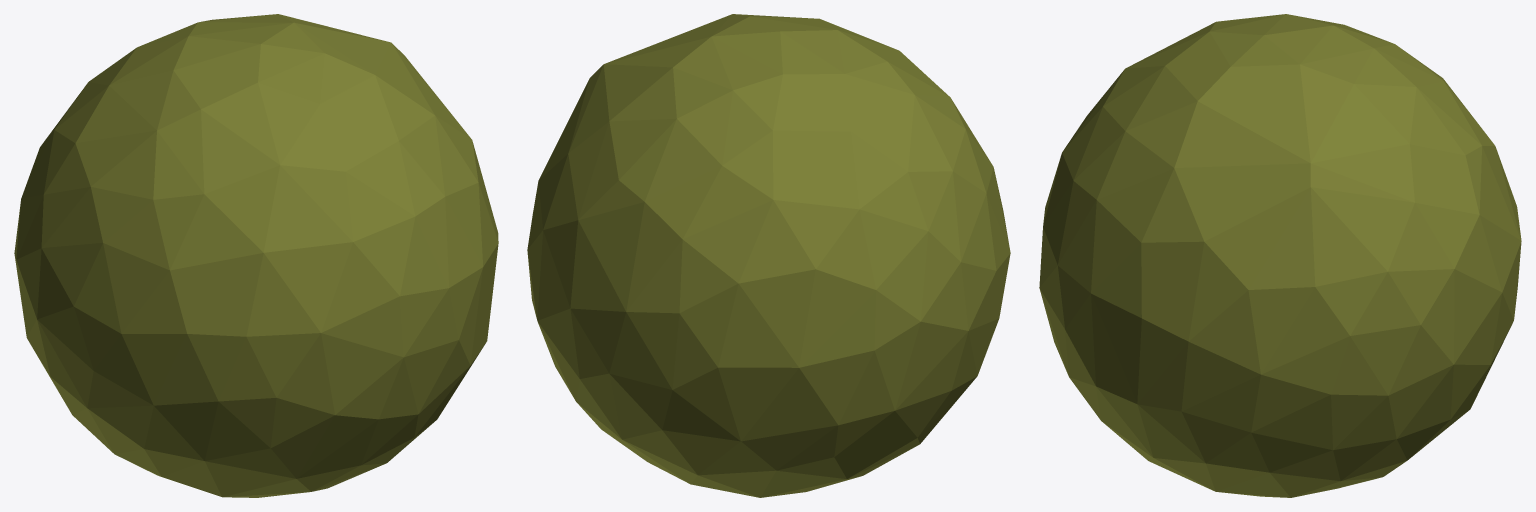
File: dagobah_simple.dae
3 views of the same model, side by side, from view 1: azimuth 30°, elevation 25°; view 2: azimuth 150°, elevation 25°; view 3: azimuth 270°, elevation 25° (orthographic).
Parts seen in each view (by area): view 1: kamino; view 2: kamino; view 3: kamino.
Boxes of the visible parts, box(x1,y1,x2,y2) form: kamino: box(14, 14, 498, 497); kamino: box(527, 14, 1010, 497); kamino: box(1039, 14, 1521, 497).
Bounding box in the file's own units: 6.04 × 5.99 × 6.03.
